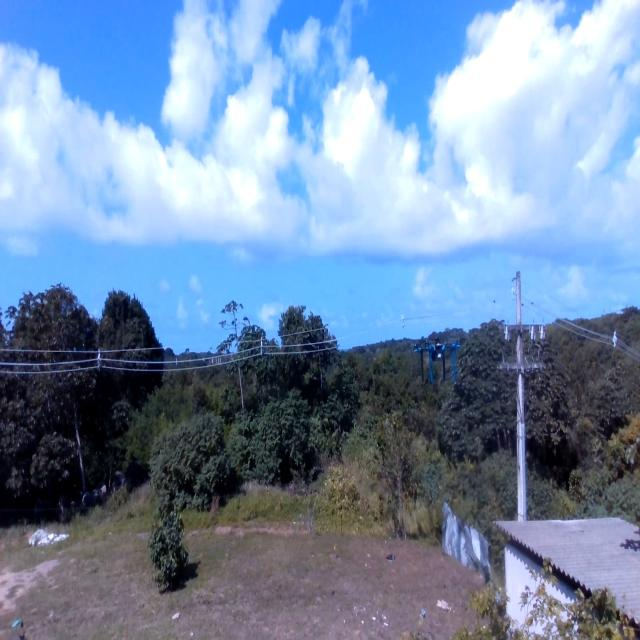-uav-: (408, 326, 482, 407)
